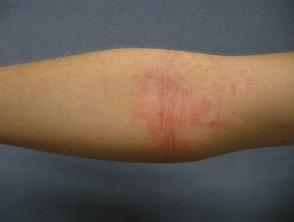Eczema: (158, 126, 184, 160), (228, 66, 254, 99), (146, 125, 165, 164), (201, 112, 234, 134), (132, 105, 157, 133), (175, 110, 203, 133), (186, 54, 218, 74), (188, 95, 213, 120), (154, 68, 181, 91), (130, 64, 155, 88), (210, 69, 230, 99), (156, 101, 173, 136), (172, 89, 195, 109)
